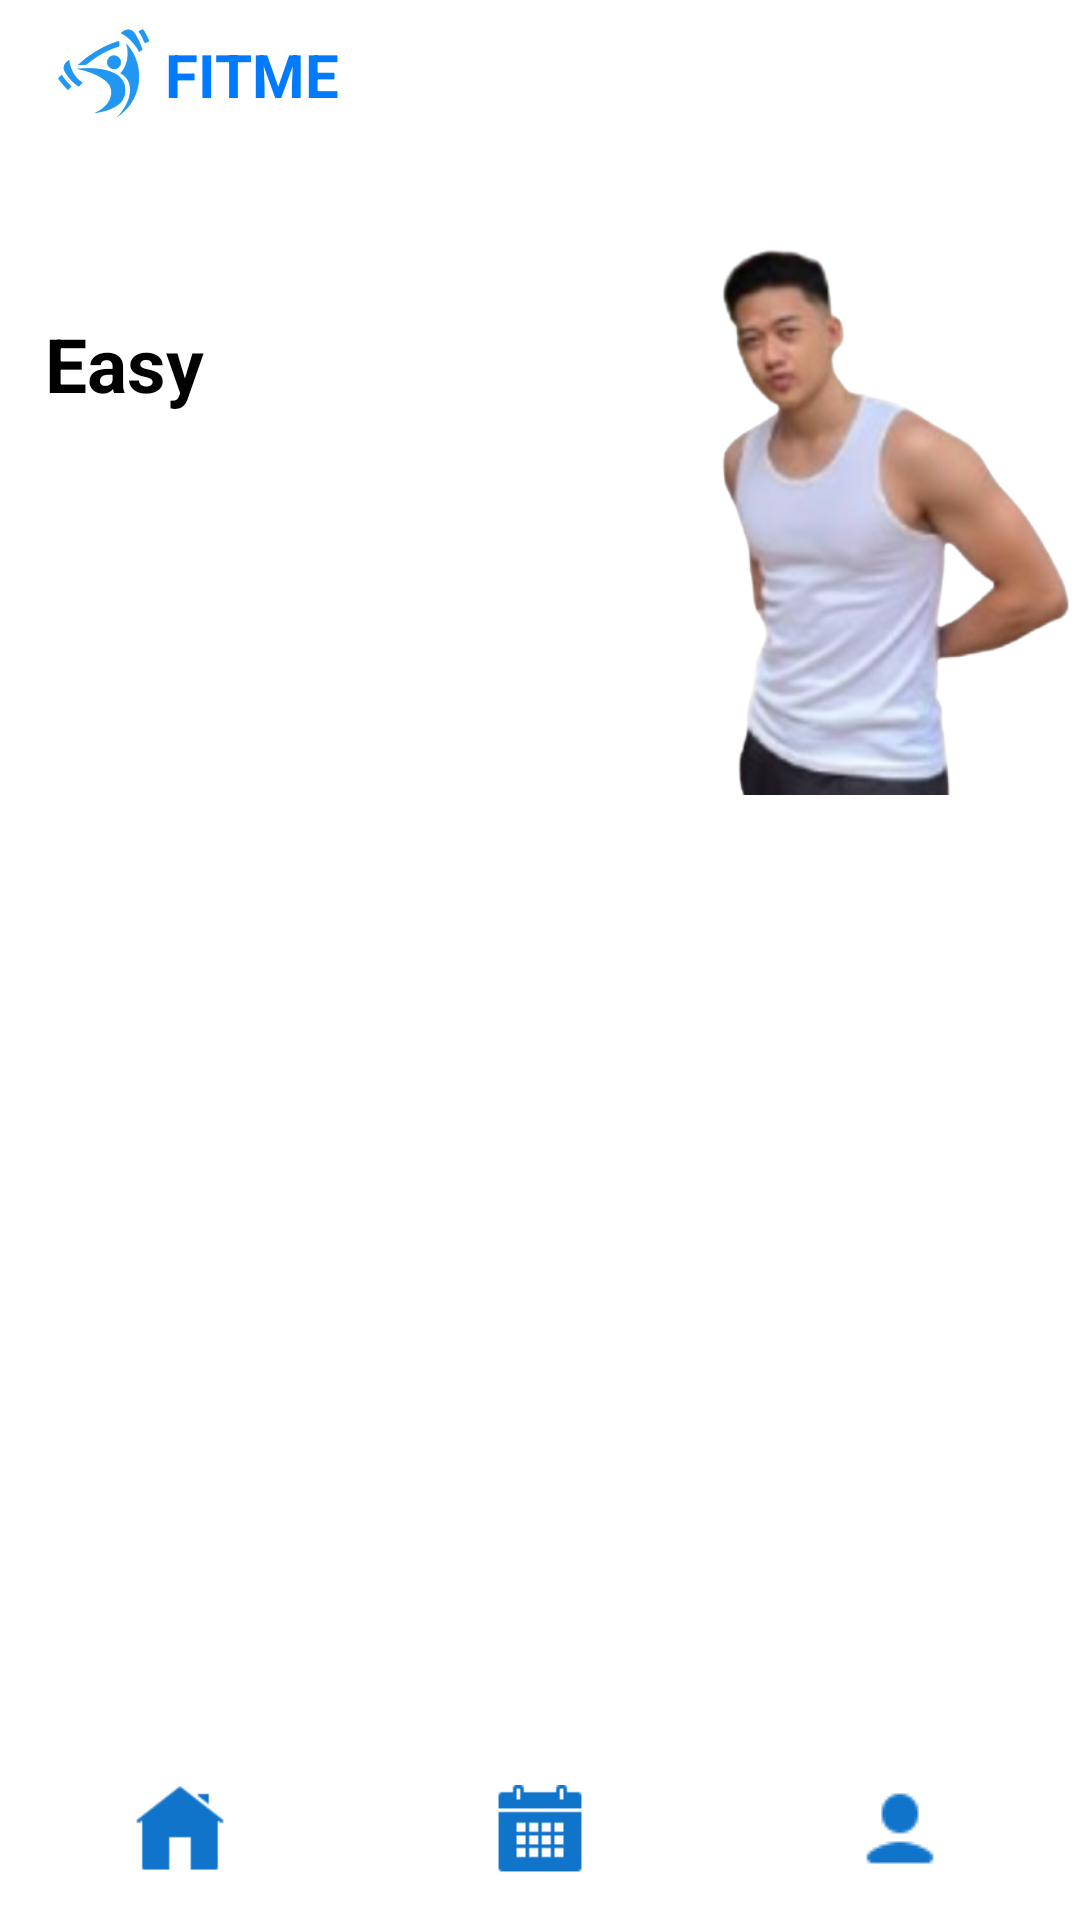

Where icons sit on this 1080 × 1920 app screen, as (x1, y1, x2, y2):
calendar: (498, 1785, 582, 1872)
home: (136, 1786, 224, 1870)
profile: (866, 1793, 934, 1864)
